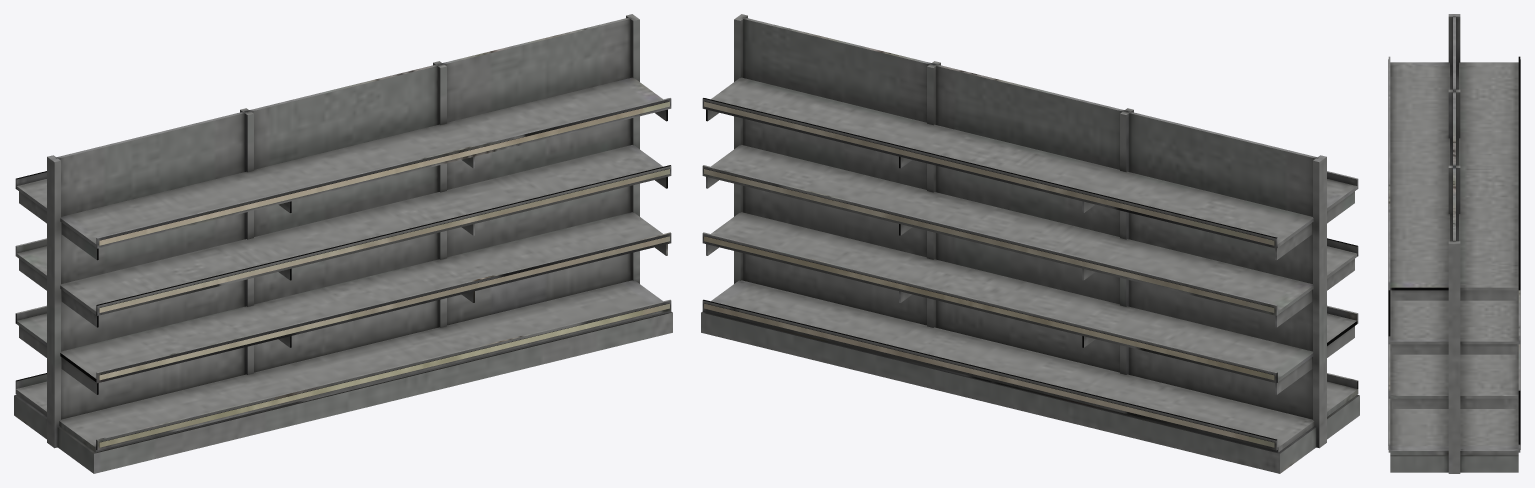
File: gondola_36_lod1_web.glb
3 renders of one model, left to right at view 1: azimuth 30°, elevation 25°; view 2: azimuth 150°, elevation 25°; view 3: azimuth 270°, elevation 25°, orthographic. The views are drawn at different scales.
Parts seen in each view (by area): view 1: Gondola36_Body; view 2: Gondola36_Body; view 3: Gondola36_Body.
Part boxes in pixels (box(x1,y1,x2,y2)): Gondola36_Body: box(14, 14, 672, 473); Gondola36_Body: box(701, 14, 1359, 473); Gondola36_Body: box(1388, 14, 1520, 473).
Size of the model in its own units: 3.64 by 1.7 by 0.8861.
1 material, 1 textured.
